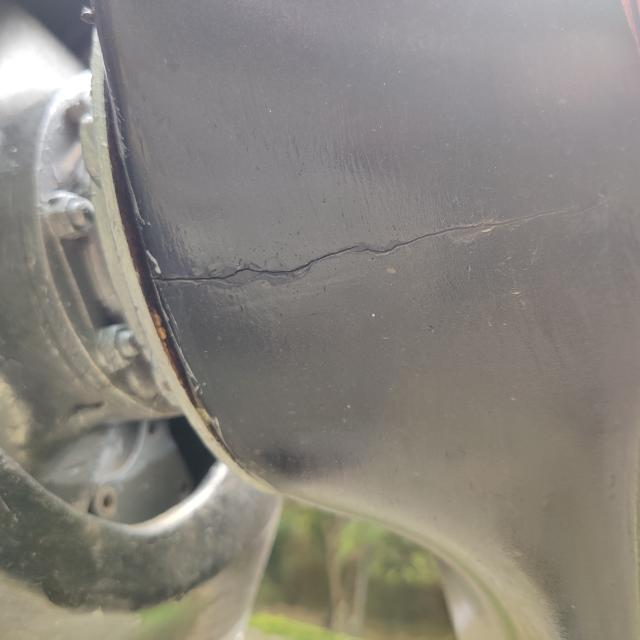crack: (124, 175, 586, 360)
